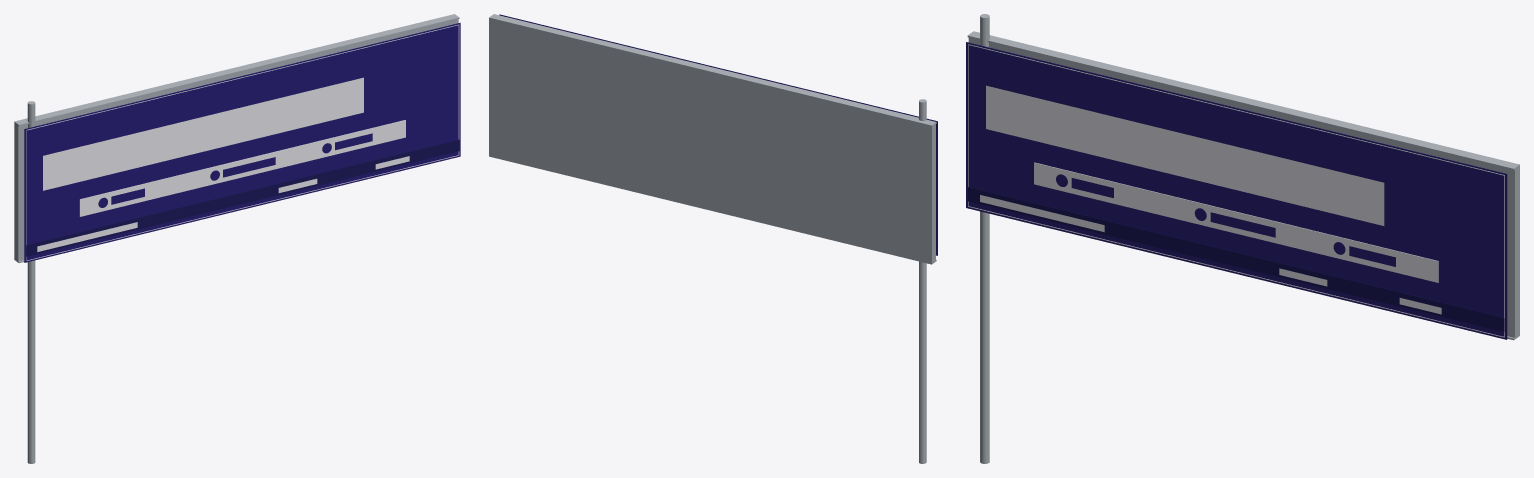
File: Chữ inox 304 Chân cháo LED.obj
The picture shows the model from 3 angles, left to right: view 1: azimuth 30°, elevation 25°; view 2: azimuth 150°, elevation 25°; view 3: azimuth 330°, elevation 25°; orthographic projection. The views are drawn at different scales.
Parts seen in each view (by area): view 1: MAT_NEN_XANH_TIM, CHU_NOI_XE_ĐIỆN_THU_HIỀN, KHUNG_BIEN_NHOM, THANH_THONG_TIN, DAI_CHAN_XANH, TRU_THEP_1, NEP_NHOM_TREN, CHU_NOI_CHAT_LUONG_-_BEN_BI_-_TIET_KIEM, VIEN_TREN, VIEN_DUOI; view 2: KHUNG_BIEN_NHOM, TRU_THEP_1, MAT_NEN_XANH_TIM, NEP_NHOM_TREN; view 3: MAT_NEN_XANH_TIM, CHU_NOI_XE_ĐIỆN_THU_HIỀN, KHUNG_BIEN_NHOM, THANH_THONG_TIN, DAI_CHAN_XANH, TRU_THEP_1, NEP_NHOM_TREN, CHU_NOI_CHAT_LUONG_-_BEN_BI_-_TIET_KIEM, VIEN_TREN, VIEN_DUOI, CHU_NOI_XE_MÁY_ĐIỆN.
Boxes of the visible parts, x1,y1,x2,y2 form: MAT_NEN_XANH_TIM: [24, 22, 460, 262]; CHU_NOI_XE_ĐIỆN_THU_HIỀN: [43, 77, 363, 190]; KHUNG_BIEN_NHOM: [14, 14, 458, 262]; THANH_THONG_TIN: [79, 120, 405, 216]; DAI_CHAN_XANH: [26, 139, 459, 256]; TRU_THEP_1: [27, 101, 35, 463]; NEP_NHOM_TREN: [18, 17, 459, 126]; CHU_NOI_CHAT_LUONG_-_BEN_BI_-_TIET_KIEM: [37, 222, 137, 251]; VIEN_TREN: [26, 24, 458, 130]; VIEN_DUOI: [27, 155, 458, 260]; KHUNG_BIEN_NHOM: [489, 14, 935, 264]; TRU_THEP_1: [919, 99, 926, 463]; MAT_NEN_XANH_TIM: [499, 14, 937, 255]; NEP_NHOM_TREN: [493, 14, 936, 123]; MAT_NEN_XANH_TIM: [966, 42, 1507, 339]; CHU_NOI_XE_ĐIỆN_THU_HIỀN: [986, 85, 1384, 225]; KHUNG_BIEN_NHOM: [968, 31, 1519, 339]; THANH_THONG_TIN: [1034, 162, 1438, 282]; DAI_CHAN_XANH: [968, 187, 1504, 331]; TRU_THEP_1: [980, 14, 989, 463]; NEP_NHOM_TREN: [967, 35, 1514, 170]; CHU_NOI_CHAT_LUONG_-_BEN_BI_-_TIET_KIEM: [980, 195, 1104, 232]; VIEN_TREN: [968, 44, 1504, 175]; VIEN_DUOI: [968, 206, 1504, 337]; CHU_NOI_XE_MÁY_ĐIỆN: [1210, 212, 1275, 237].
Bounding box in the file's own units: 5 × 3.9 × 0.184.
